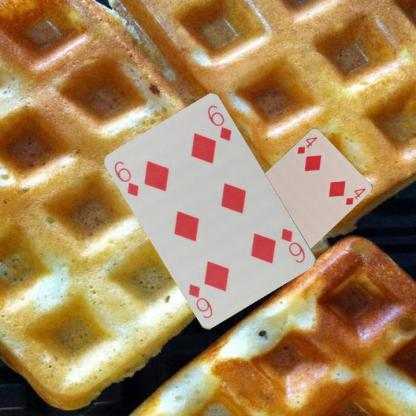4d: (295, 134, 318, 155)
6d: (278, 225, 307, 265), (112, 158, 140, 198)
